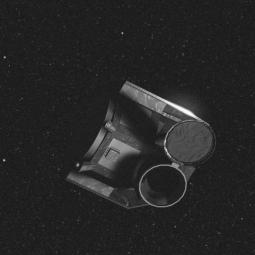cheops: (60, 73, 218, 213)
